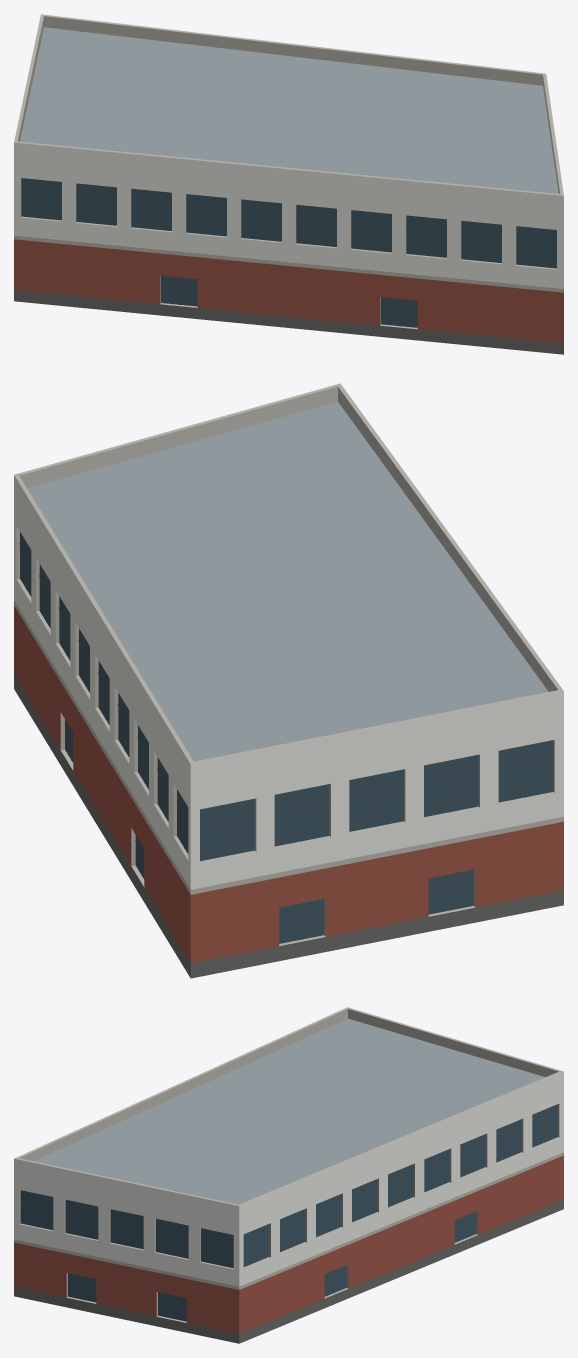
3 renders of one model, top to bottom at view 1: azimuth 30°, elevation 25°; view 2: azimuth 150°, elevation 25°; view 3: azimuth 270°, elevation 25°, orthographic. The views are drawn at different scales.
Visible parts, largest first — view 1: hall3__roof, hall3__wall-plaster, hall3__brick, hall3__glass, hall3__trim-concrete, hall3__base-stone, hall3__frame; view 2: hall3__roof, hall3__wall-plaster, hall3__brick, hall3__glass, hall3__trim-concrete, hall3__base-stone, hall3__frame; view 3: hall3__roof, hall3__wall-plaster, hall3__brick, hall3__glass, hall3__trim-concrete, hall3__base-stone, hall3__frame.
Part boxes in pixels (<box>): hall3__roof: <box>20,27,558,193</box>; hall3__wall-plaster: <box>14,142,563,288</box>; hall3__brick: <box>14,239,563,343</box>; hall3__glass: <box>21,178,556,327</box>; hall3__trim-concrete: <box>14,14,563,329</box>; hall3__base-stone: <box>14,290,563,354</box>; hall3__frame: <box>21,180,556,326</box>; hall3__roof: <box>27,401,548,761</box>; hall3__wall-plaster: <box>14,475,563,889</box>; hall3__brick: <box>14,606,563,963</box>; hall3__glass: <box>20,532,553,943</box>; hall3__trim-concrete: <box>14,383,563,945</box>; hall3__base-stone: <box>14,674,563,978</box>; hall3__frame: <box>19,543,553,939</box>; hall3__roof: <box>34,1018,544,1204</box>; hall3__wall-plaster: <box>14,1071,563,1286</box>; hall3__brick: <box>14,1155,563,1333</box>; hall3__glass: <box>20,1104,557,1321</box>; hall3__trim-concrete: <box>14,1007,563,1322</box>; hall3__base-stone: <box>14,1199,563,1343</box>; hall3__frame: <box>21,1109,557,1318</box>.
Size of the model in its own units: 39.66 by 12.8 by 46.34.
